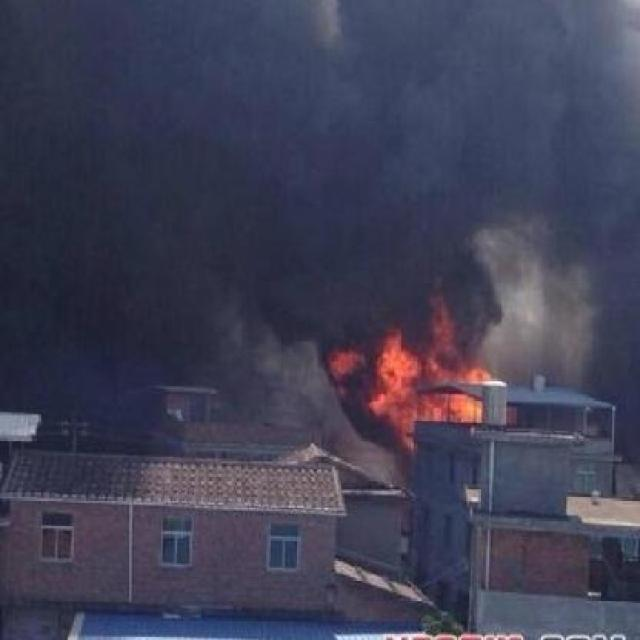Fire: (322, 289, 489, 459)
Smoke: (10, 4, 630, 284), (8, 286, 320, 408)
